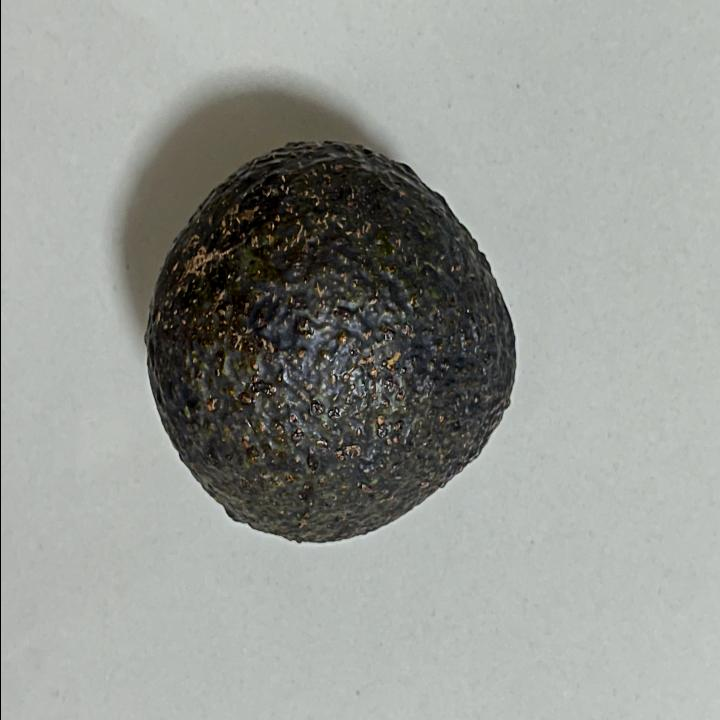Level2: (141, 133, 526, 553)
